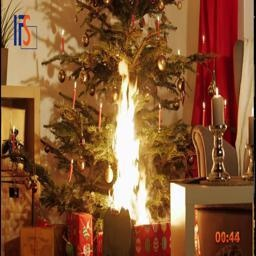fire: (87, 54, 172, 243)
